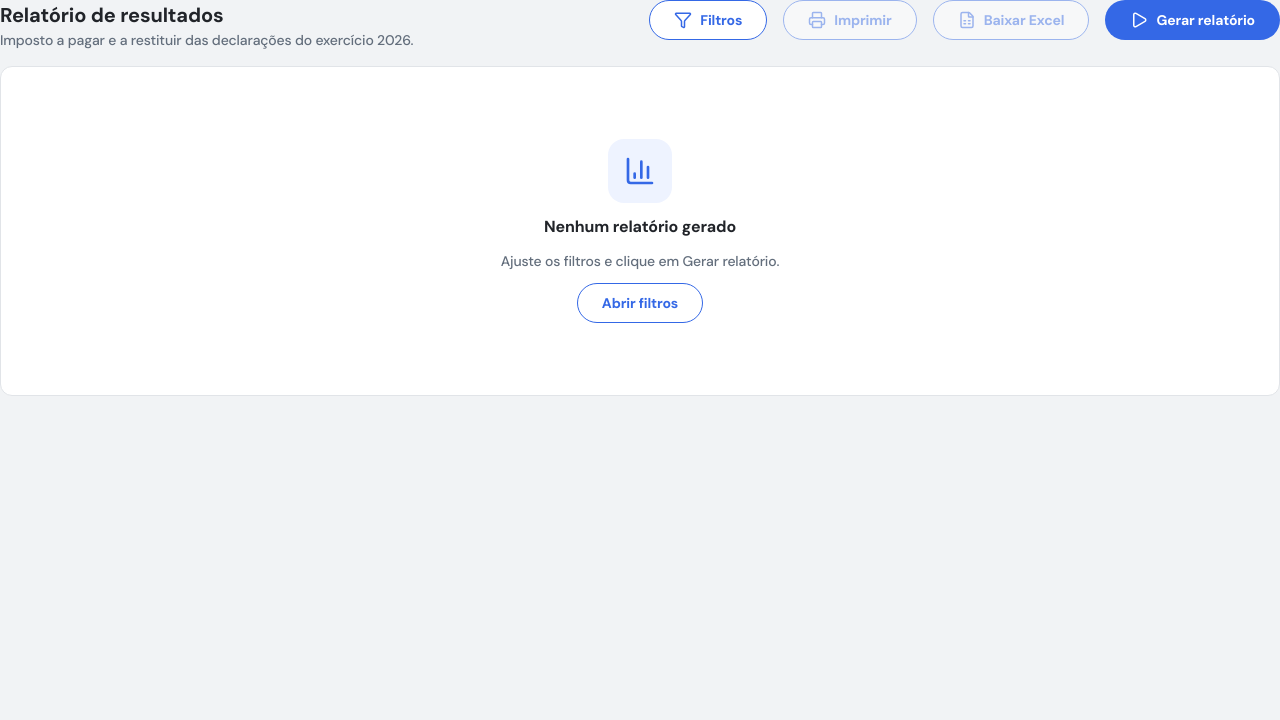
relatórios gerais: paginação e impressão › Resultados: 50 por página, com o total do relatório inteiro no rodapé
Expected: the button "Imprimir" is disabled, [783,0,917,40]
Click the button "Gerar relatório" at (1193, 20), box [1105,0,1279,40]
(page scrolled)
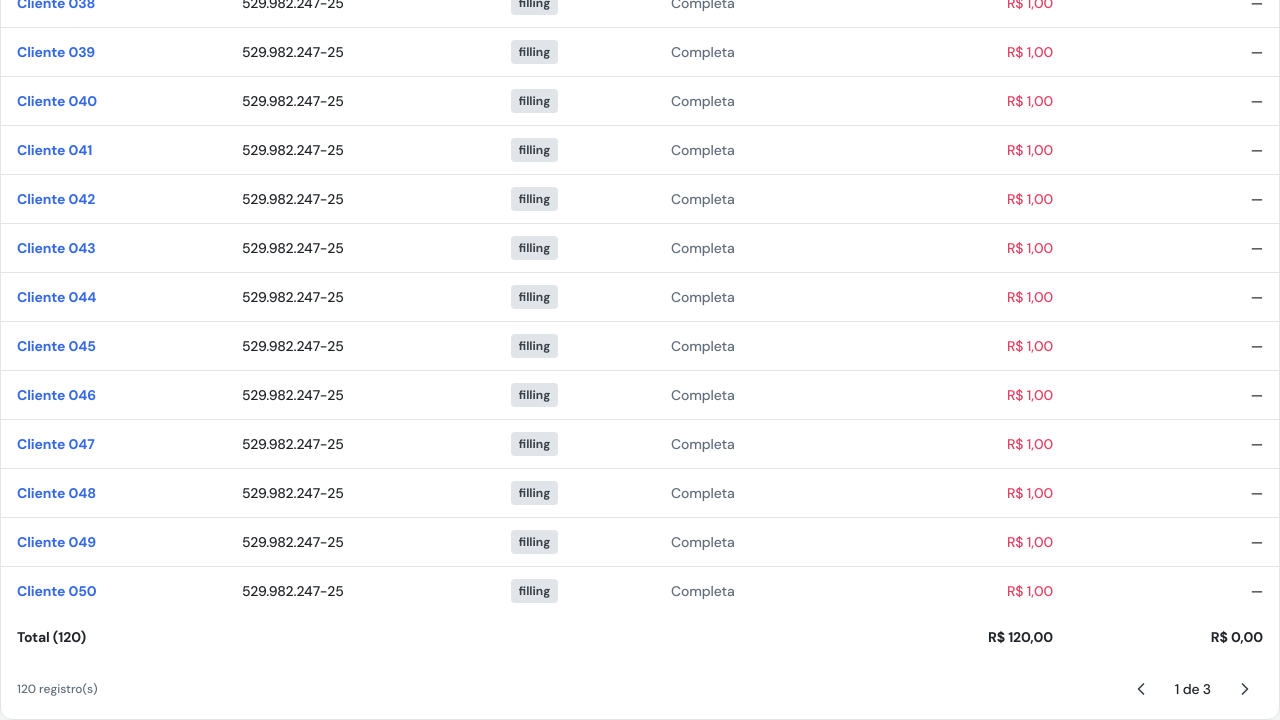
Result: the text "120 registro(s)" is shown at [17,681,98,697]
Result: the text "1 de 3" is shown at [1175,679,1211,699]
Result: the text "Total (120)" is shown at [1,615,874,659]
Click the button named "Próxima página" at (1245, 689), box [1227,671,1263,707]
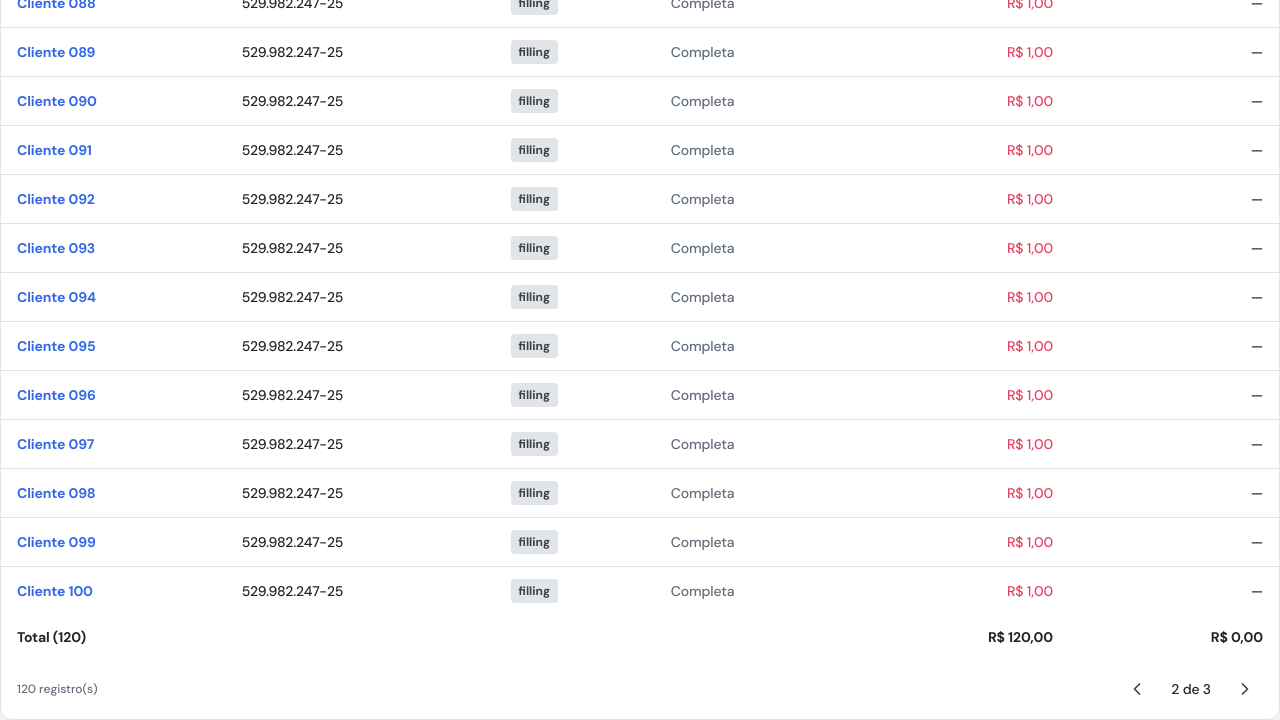
Click the button named "Próxima página" at (1245, 689), box [1227,671,1263,707]
(page scrolled)
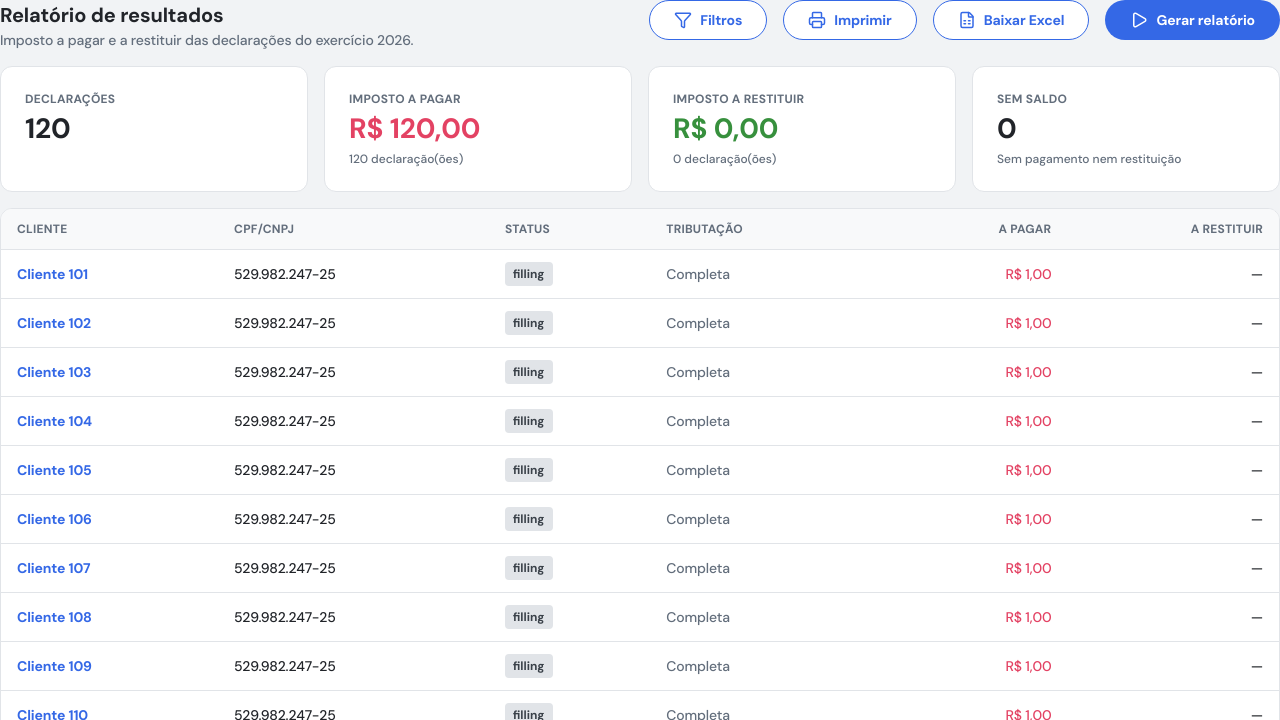
Click the button "Gerar relatório" at (1193, 20), box [1105,0,1279,40]
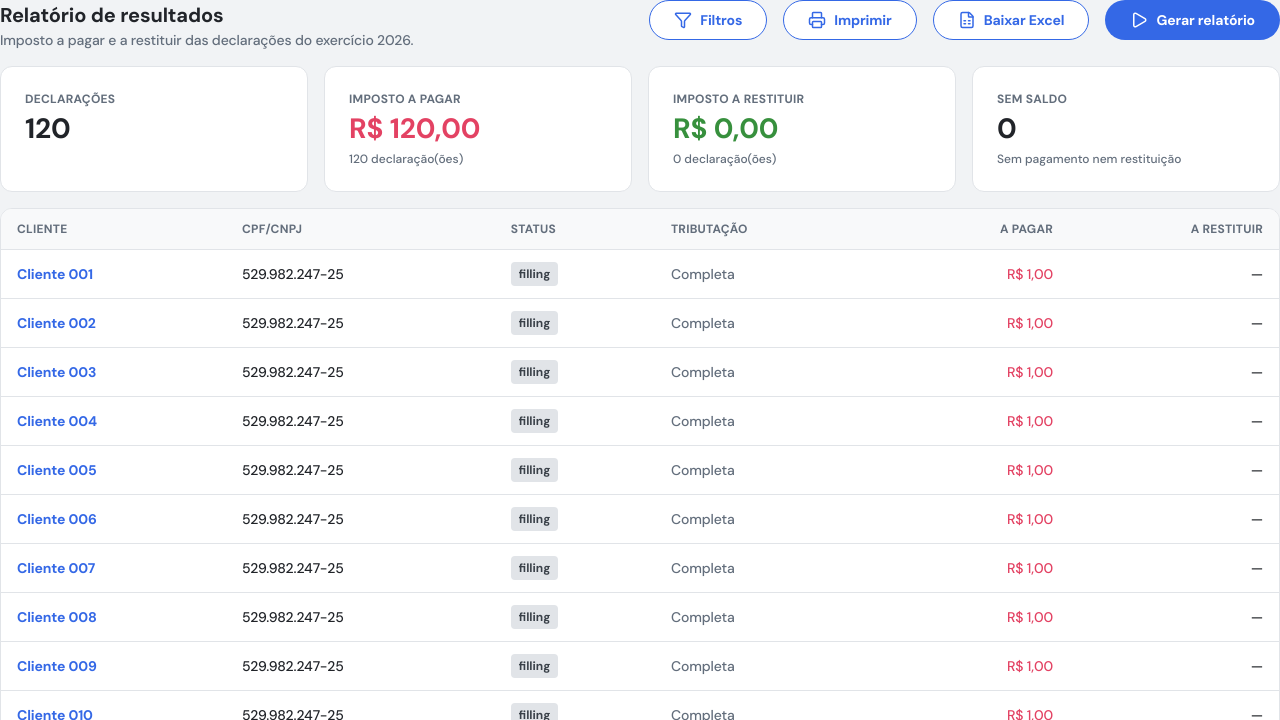
Result: the link "Cliente 001" is shown at [17,265,93,283]
